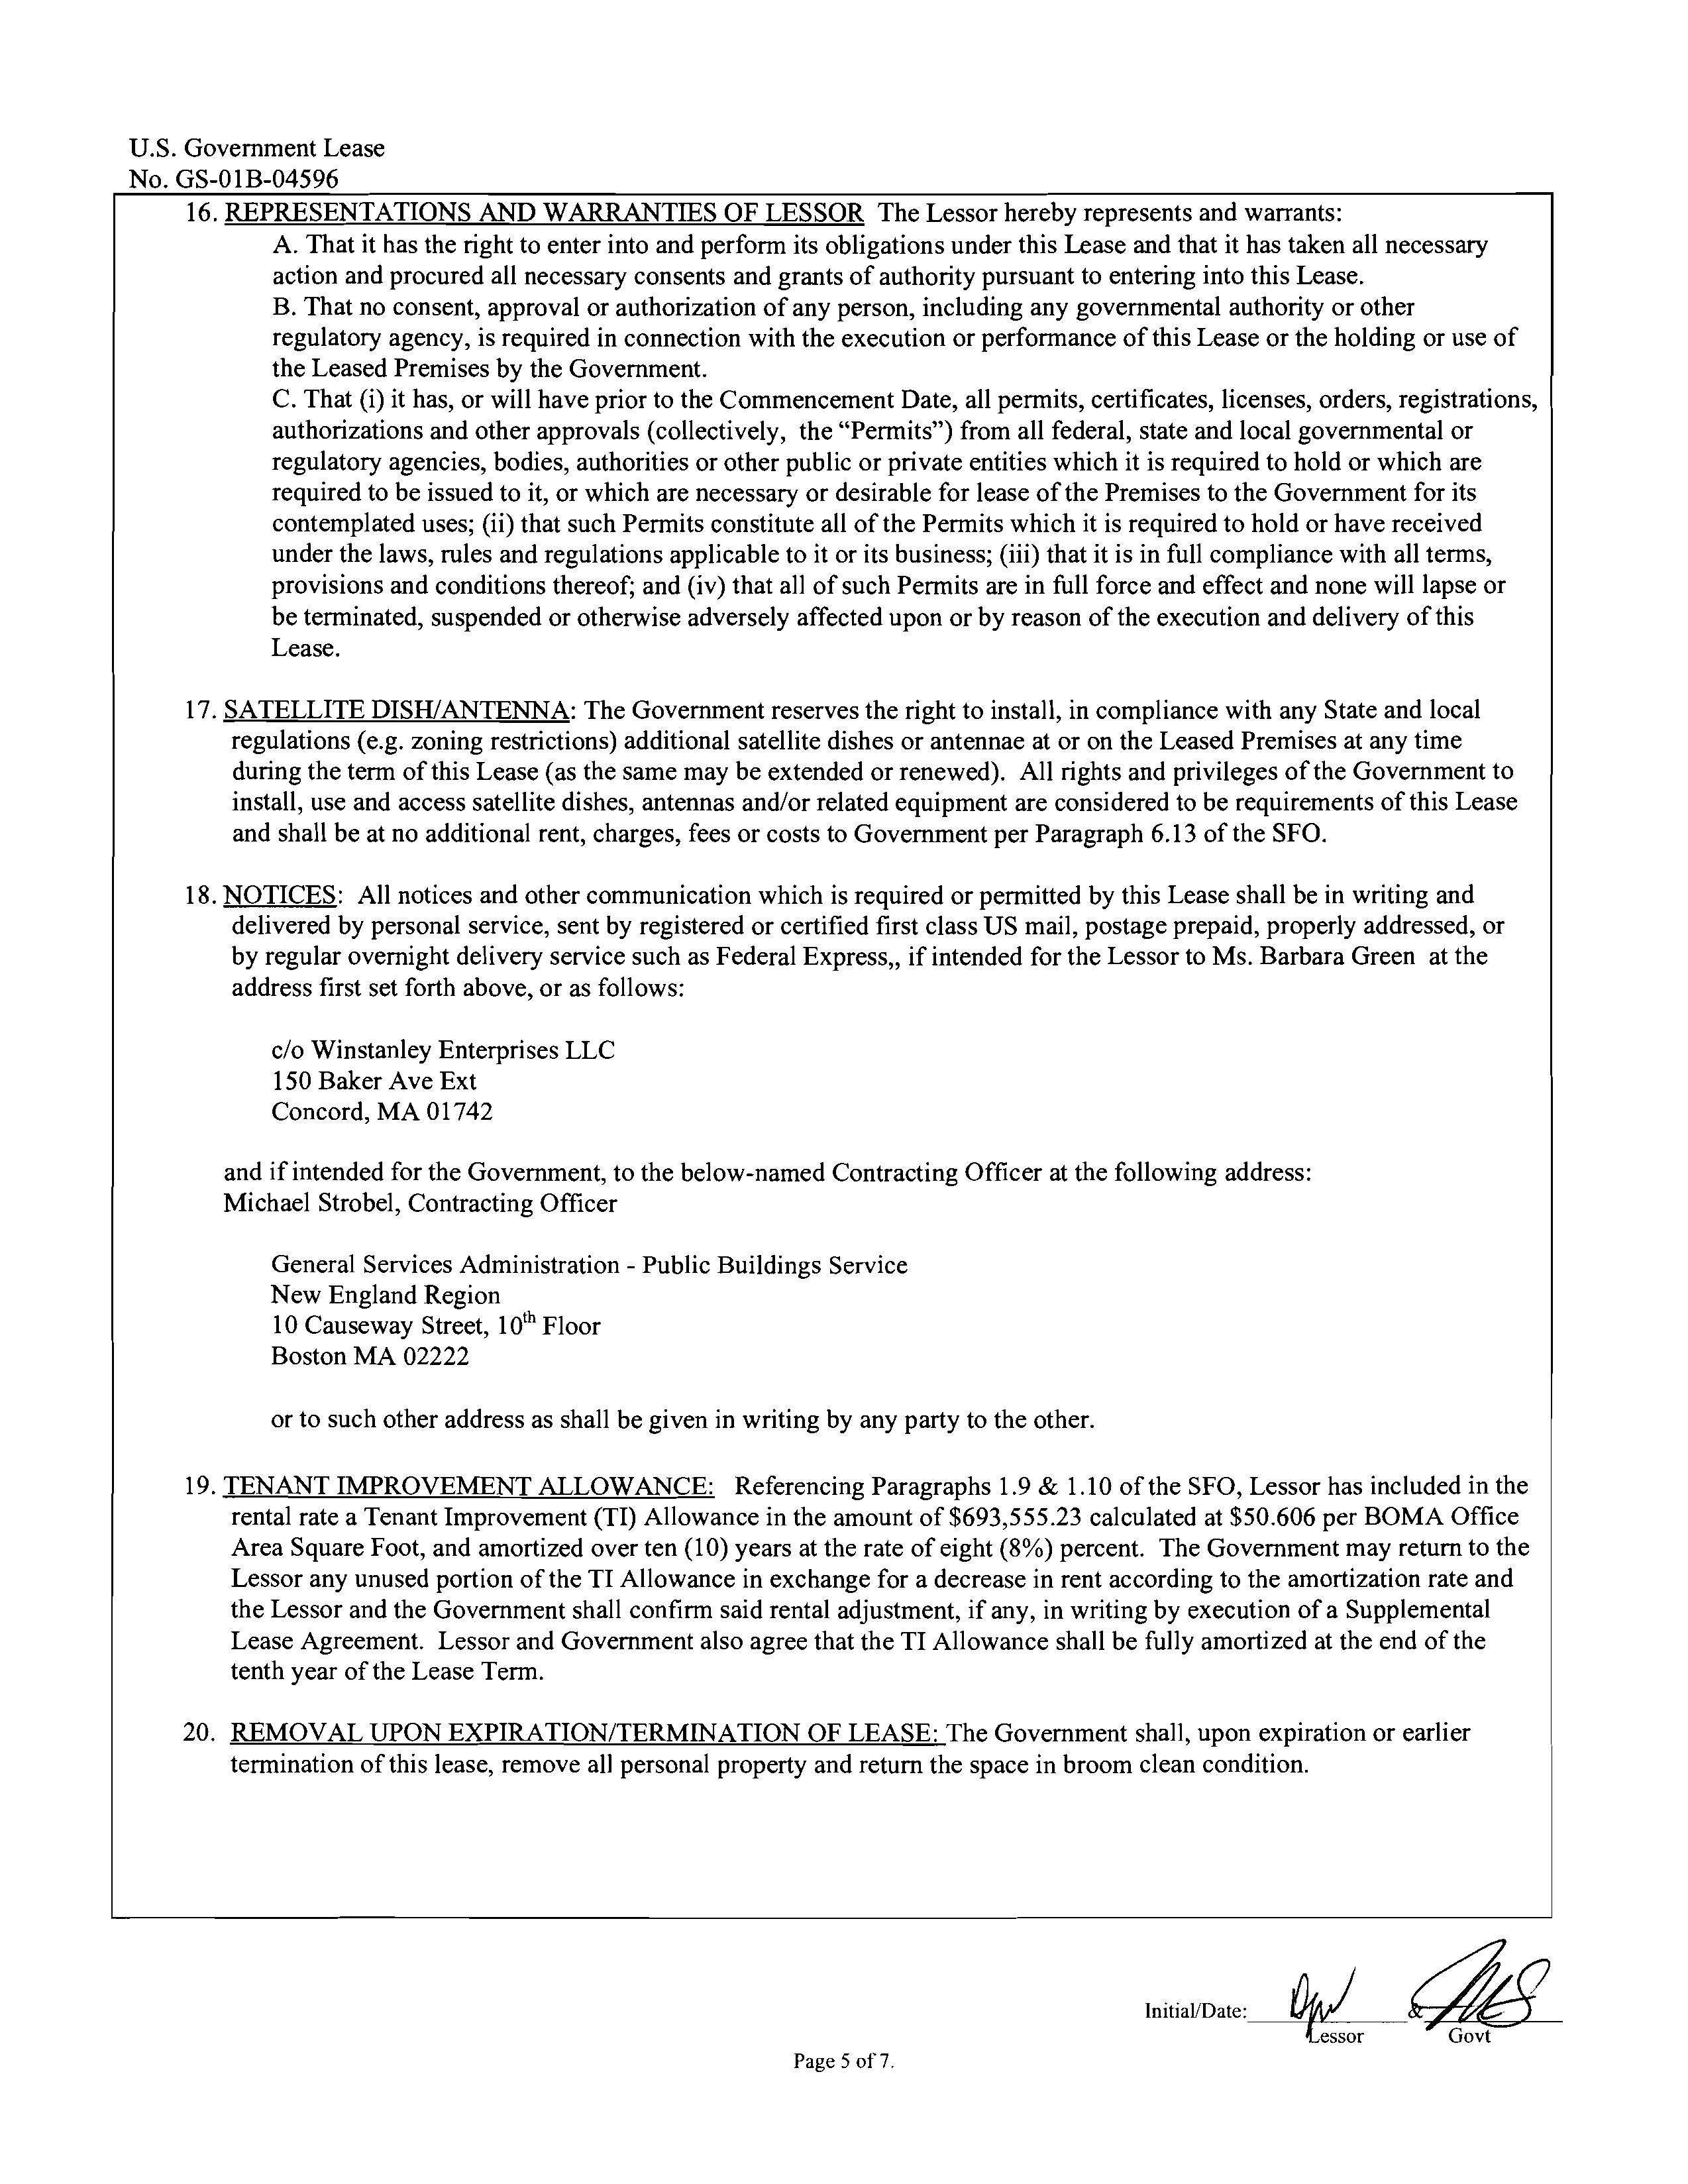handwritten: (1424, 1939, 1555, 2032), (1403, 1934, 1557, 2003), (1420, 1948, 1551, 2023), (1296, 1971, 1365, 2032), (1287, 1968, 1360, 2017)
